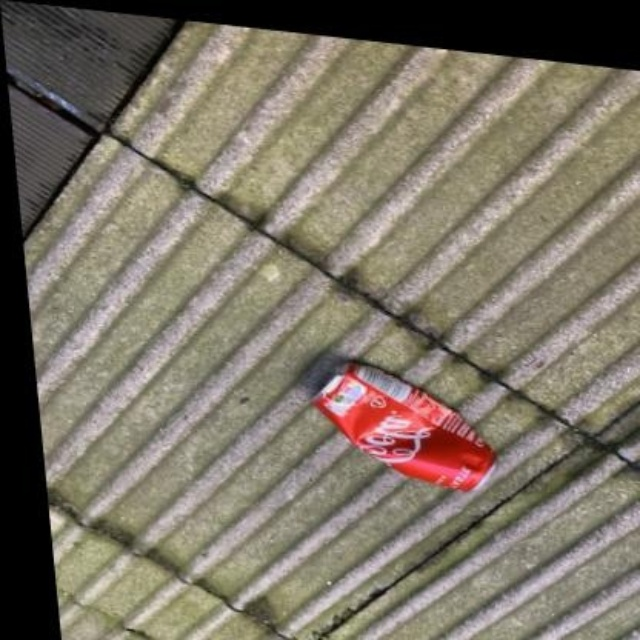trash: (314, 363, 494, 489)
